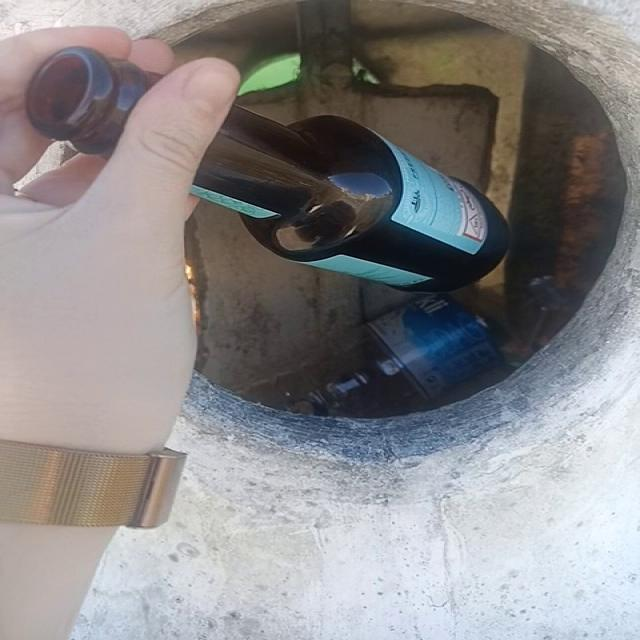glass: (193, 105, 511, 292), (28, 47, 152, 154)
